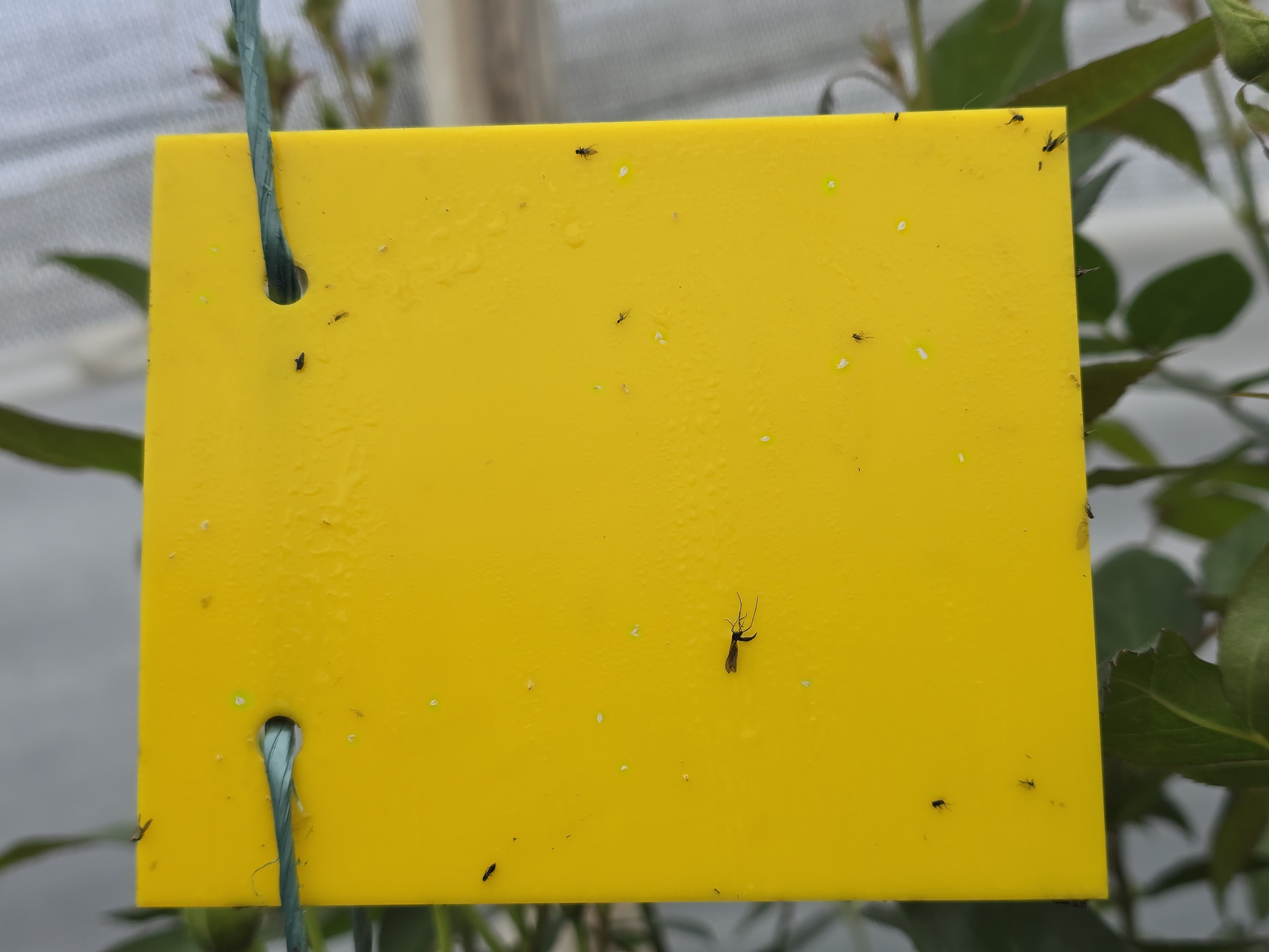WF: (909, 341, 933, 363), (230, 691, 251, 709), (615, 162, 632, 182), (832, 356, 850, 372), (195, 292, 211, 306), (823, 176, 836, 193), (953, 451, 968, 465), (616, 761, 630, 776), (627, 625, 641, 639), (896, 218, 909, 233), (652, 331, 667, 342), (428, 696, 439, 710), (759, 434, 774, 444), (346, 734, 358, 746), (591, 382, 604, 393), (201, 521, 213, 532), (595, 711, 606, 723), (209, 245, 220, 255), (801, 678, 811, 687)
